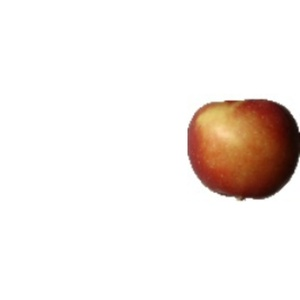maçã braeburn: (185, 97, 300, 204)
